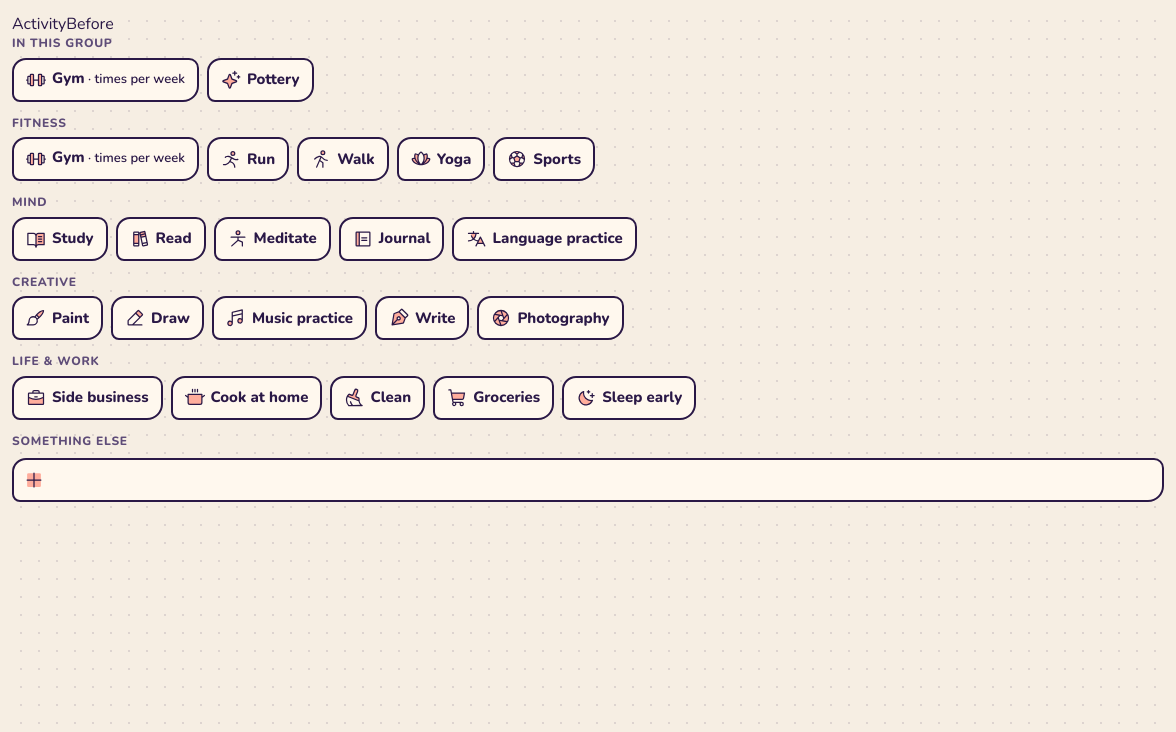
it: ActivityPicker › a typed name matching a group custom activity shows the hint, linked to the field
Type " pottery" into the field labelled "Something else" at (588, 480), box [12,458,1164,502]
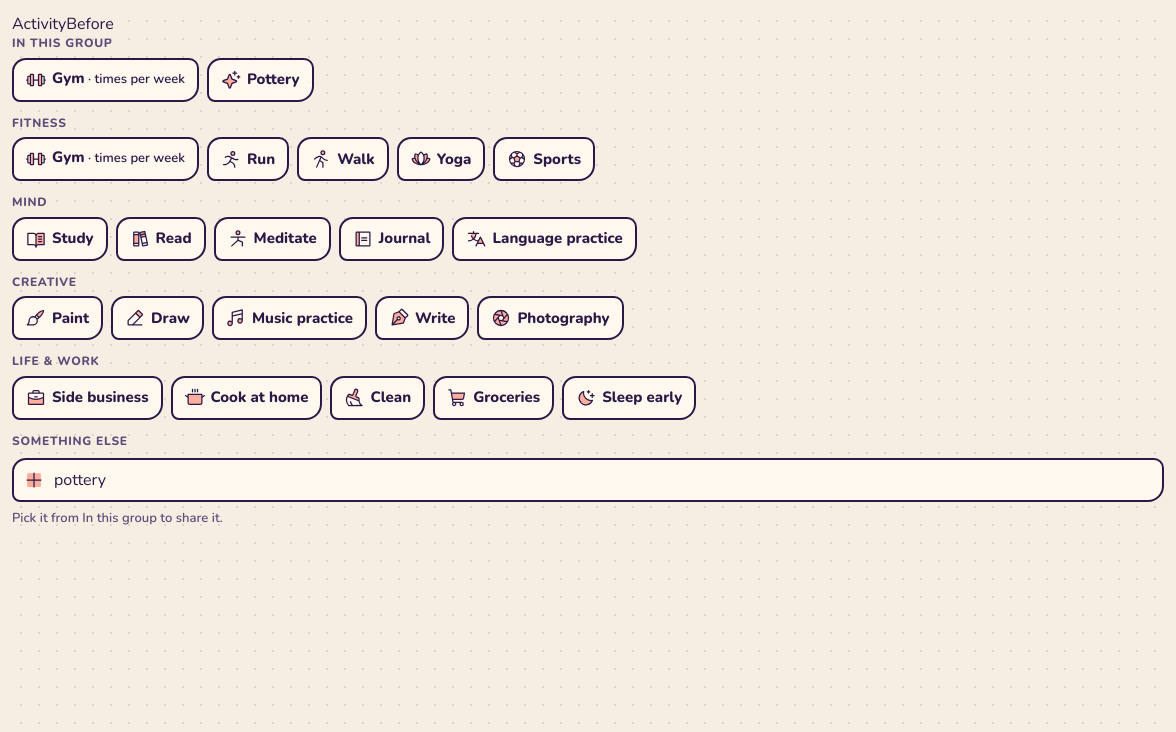
Type "s" into the field labelled "Something else" at (588, 480), box [12,458,1164,502]
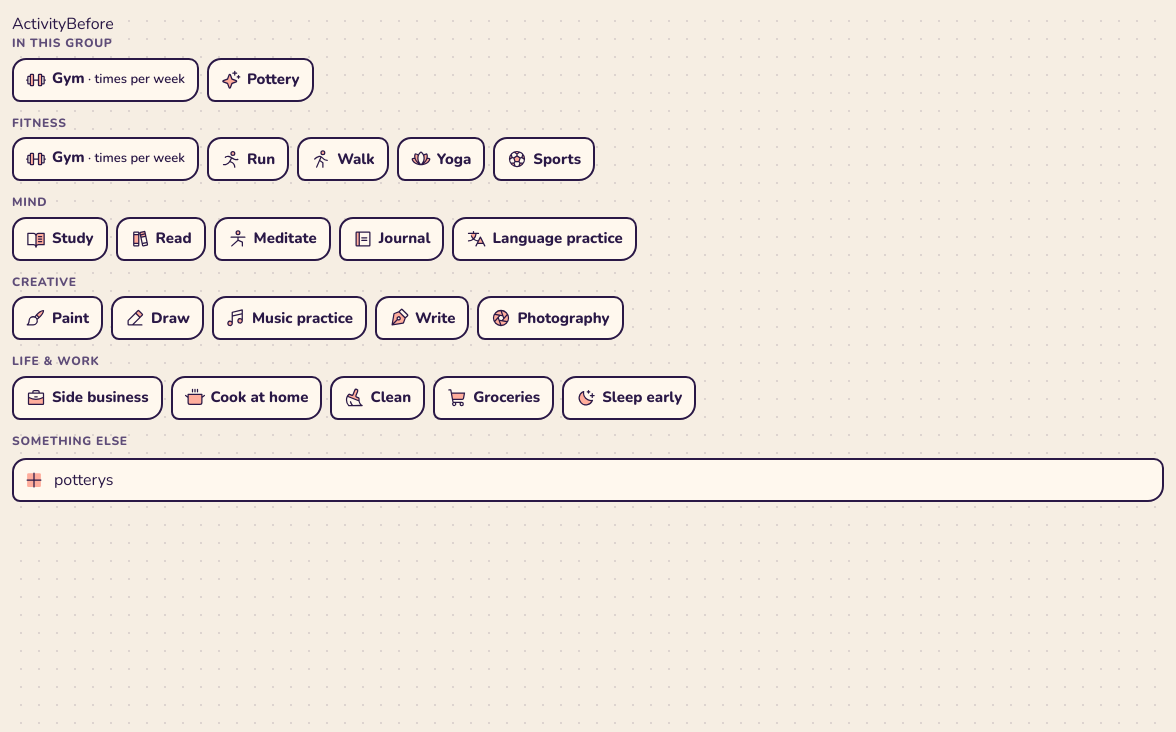
Expected: the text "Pick it from In this group to share it." is gone
